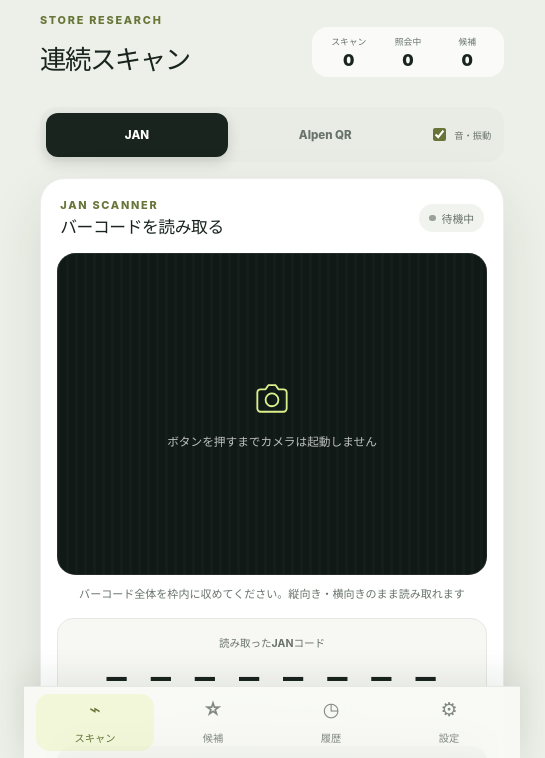
Test: application layout › saves configurable profit thresholds on the device
The width and height of the screenshot is (545, 758).
Click the button "⚙ 設定" at (449, 722), box left=390, top=694, right=508, bottom=751
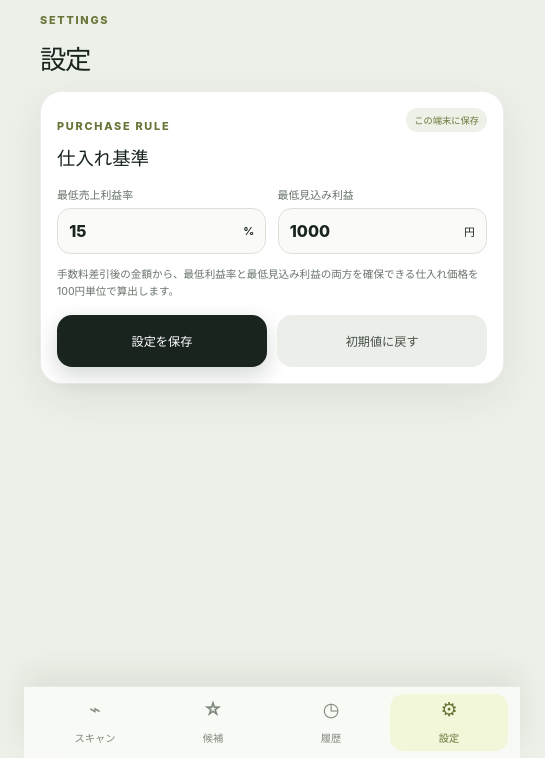
Replace the text in the number field labelled "最低売上利益率 %" with "20" at (153, 231), box left=69, top=209, right=236, bottom=253
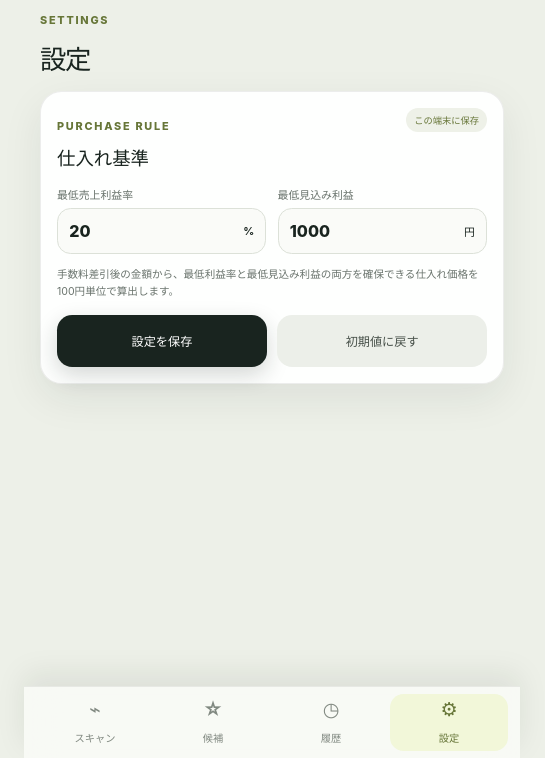
Replace the text in the number field labelled "最低見込み利益 円" with "1500" at (373, 231), box left=290, top=209, right=457, bottom=253
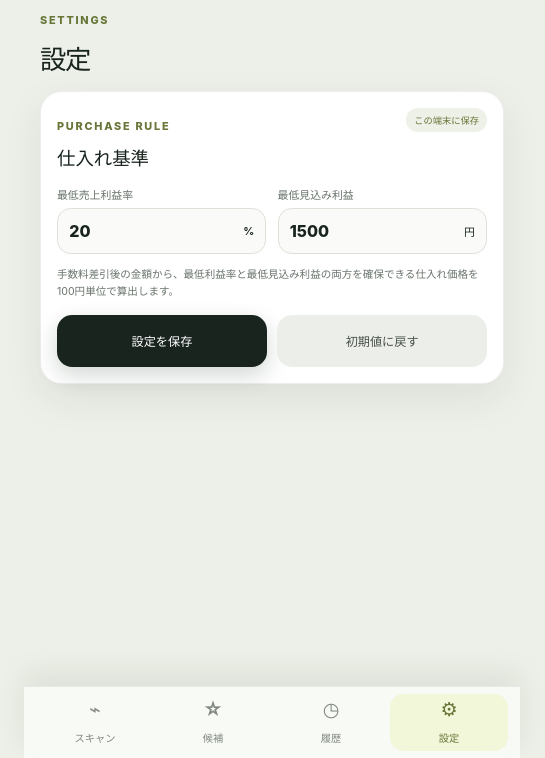
Click the button "設定を保存" at (162, 341), box left=57, top=315, right=267, bottom=367
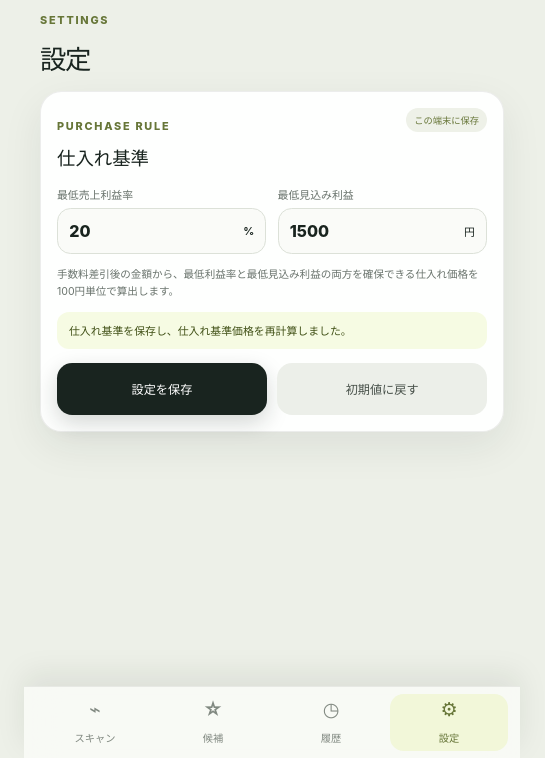
Result: the message reads "仕入れ基準を保存し、仕入れ基準価格を再計算しました。" at left=69, top=324, right=352, bottom=338
